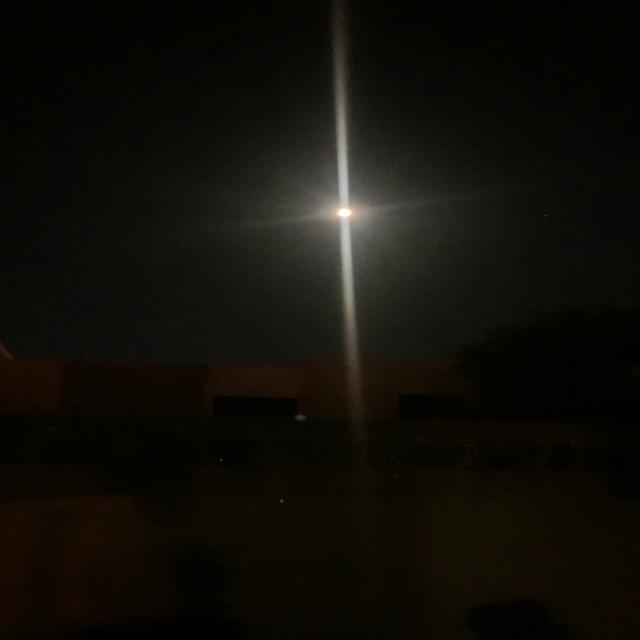moon: (326, 202, 371, 229)
